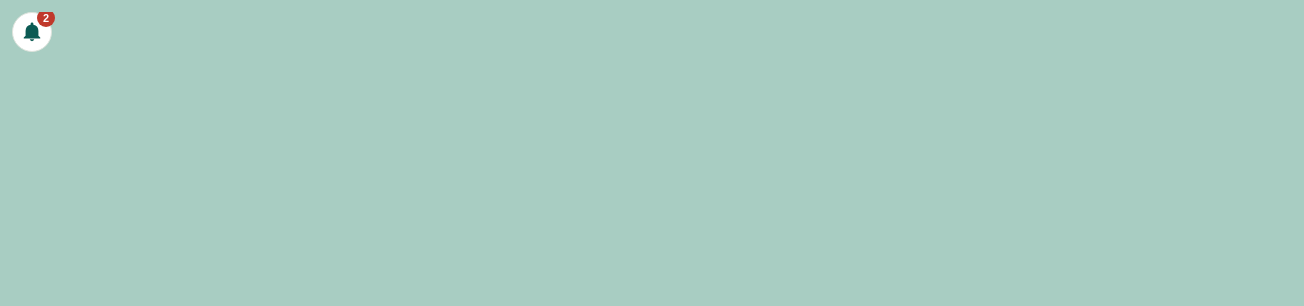
Test case: Notificaciones › al pulsar un aviso sin leer lo marca como leído y cierra el panel
Click the button named "Notificaciones, 2 sin leer". click: [32, 32]
box: [12,12,52,52]
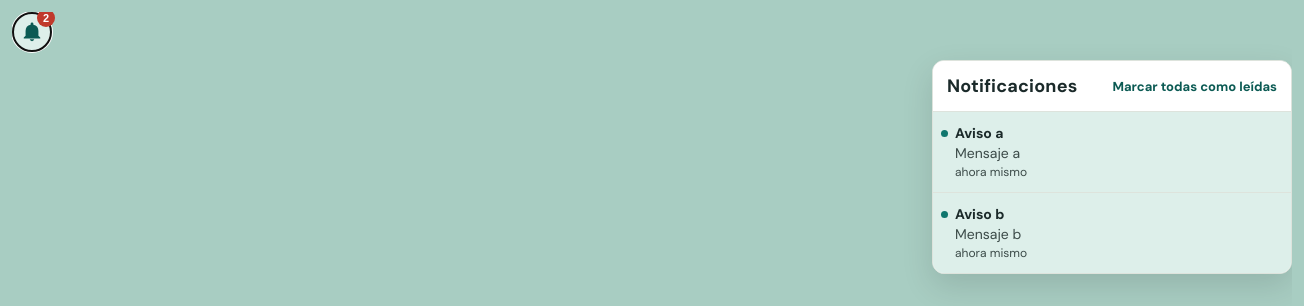
Click the button "Aviso a Mensaje a ahora mismo". click: [979, 133]
box: [933,112,1291,192]
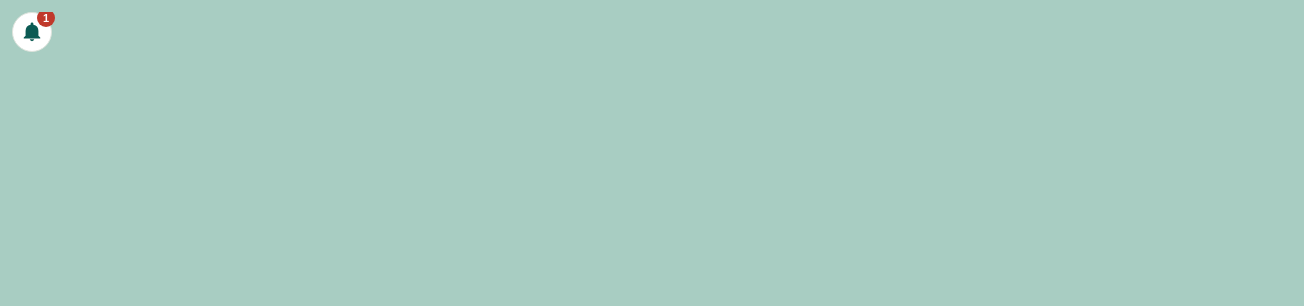
expect the button named "Notificaciones, 1 sin leer" is shown: met, box [12,12,52,52]
